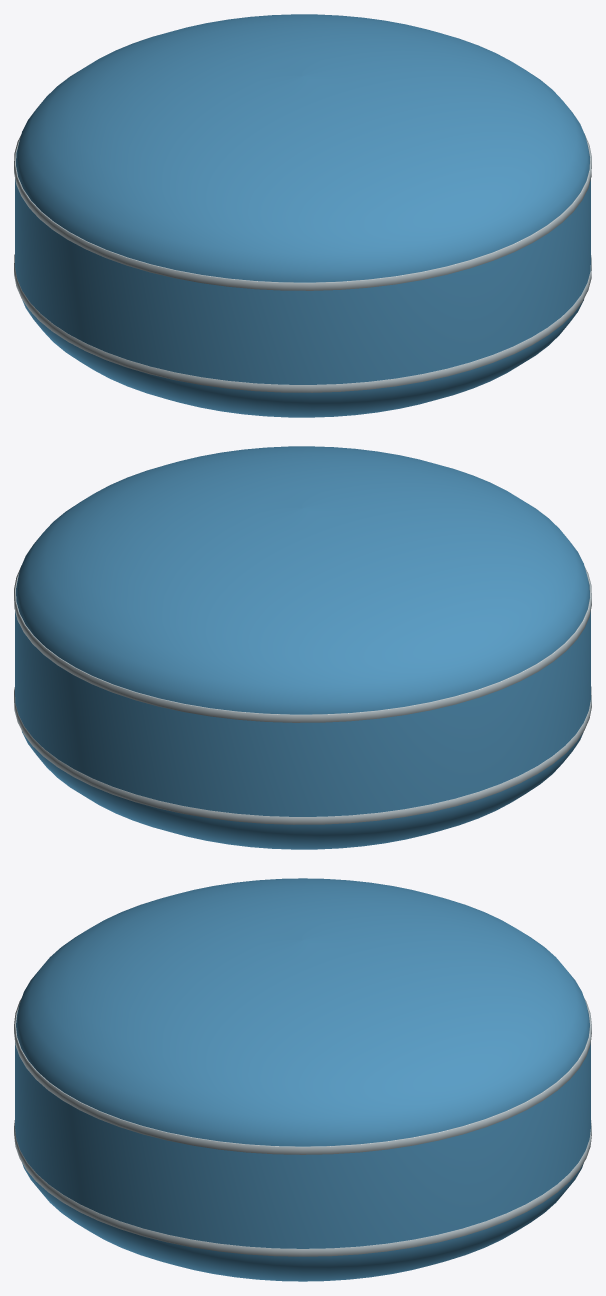
The model's file is s_ii_lox_vessel.glb.
The picture shows the model from 3 angles, top to bottom: view 1: azimuth 30°, elevation 25°; view 2: azimuth 150°, elevation 25°; view 3: azimuth 270°, elevation 25°; orthographic projection.
Parts seen in each view (by area): view 1: s_iicutawaylox_tankmesh.mesh_Cutaway_•_liquid_oxygen, s_iicutawaylox_tankmesh.mesh_Satin_aluminum; view 2: s_iicutawaylox_tankmesh.mesh_Cutaway_•_liquid_oxygen, s_iicutawaylox_tankmesh.mesh_Satin_aluminum; view 3: s_iicutawaylox_tankmesh.mesh_Cutaway_•_liquid_oxygen, s_iicutawaylox_tankmesh.mesh_Satin_aluminum.
Part boxes in pixels (x1,y1,x2,y2): s_iicutawaylox_tankmesh.mesh_Cutaway_•_liquid_oxygen: (15,14,590,417); s_iicutawaylox_tankmesh.mesh_Satin_aluminum: (14,134,591,392); s_iicutawaylox_tankmesh.mesh_Cutaway_•_liquid_oxygen: (15,446,590,849); s_iicutawaylox_tankmesh.mesh_Satin_aluminum: (14,566,591,824); s_iicutawaylox_tankmesh.mesh_Cutaway_•_liquid_oxygen: (15,878,590,1281); s_iicutawaylox_tankmesh.mesh_Satin_aluminum: (14,998,591,1256).
Bounding box in the file's own units: 9.15 × 4.88 × 9.15.
